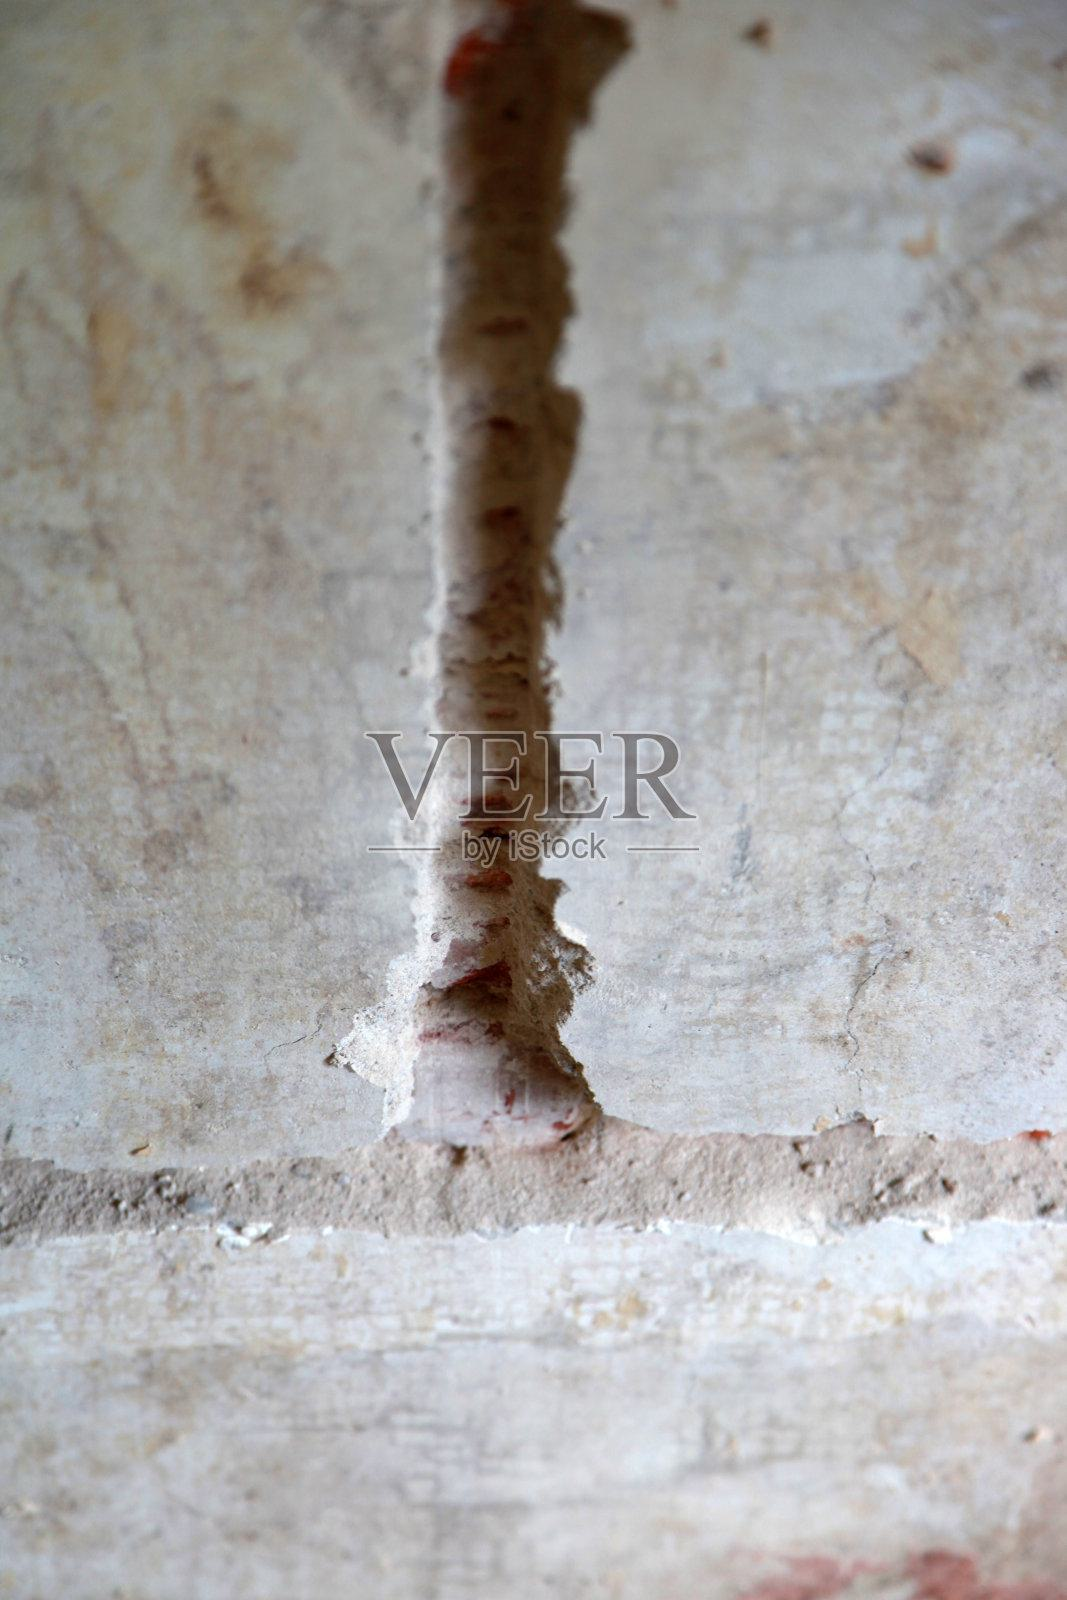Crack: (338, 1, 636, 1126), (1, 1126, 1067, 1246)
